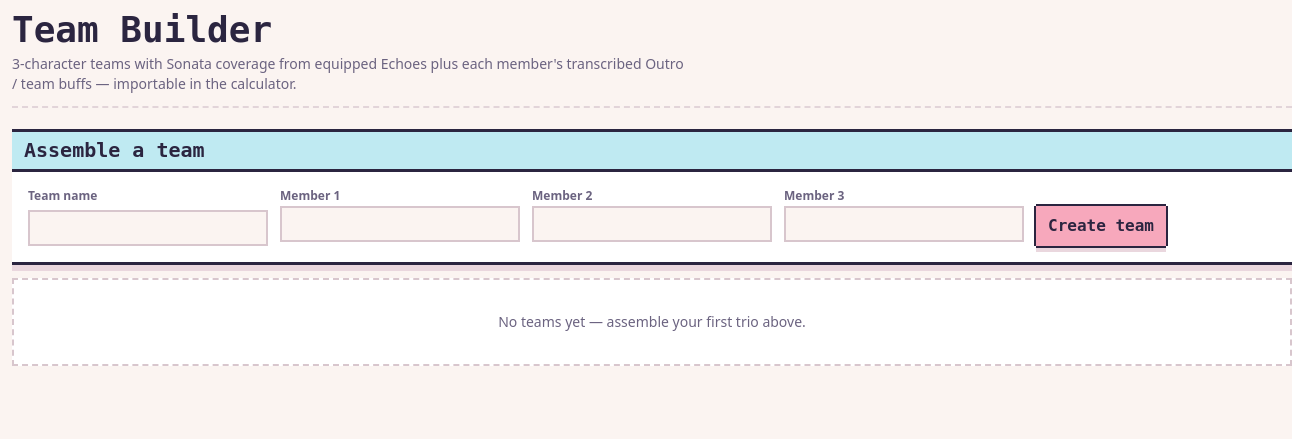
Test case: TeamsPage › rejects duplicate members without writing
In the field labelled "Team name": (148, 228) [28,210,268,246], type "Dup"
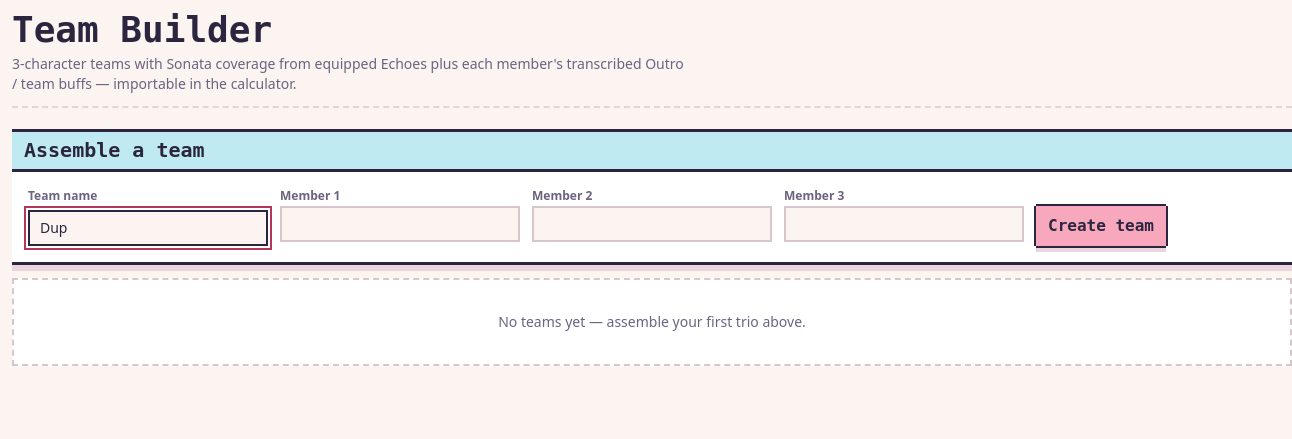
In the dropdown labelled "Member 1": (400, 224) [280,206,520,242], type "jiyan"
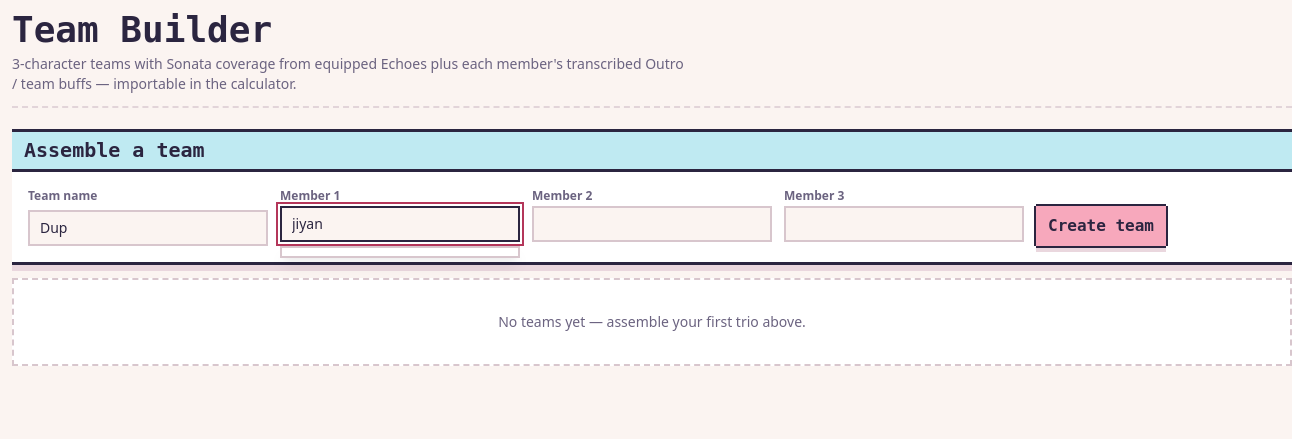
In the dropdown labelled "Member 2": (652, 224) [532,206,772,242], type "jiyan"
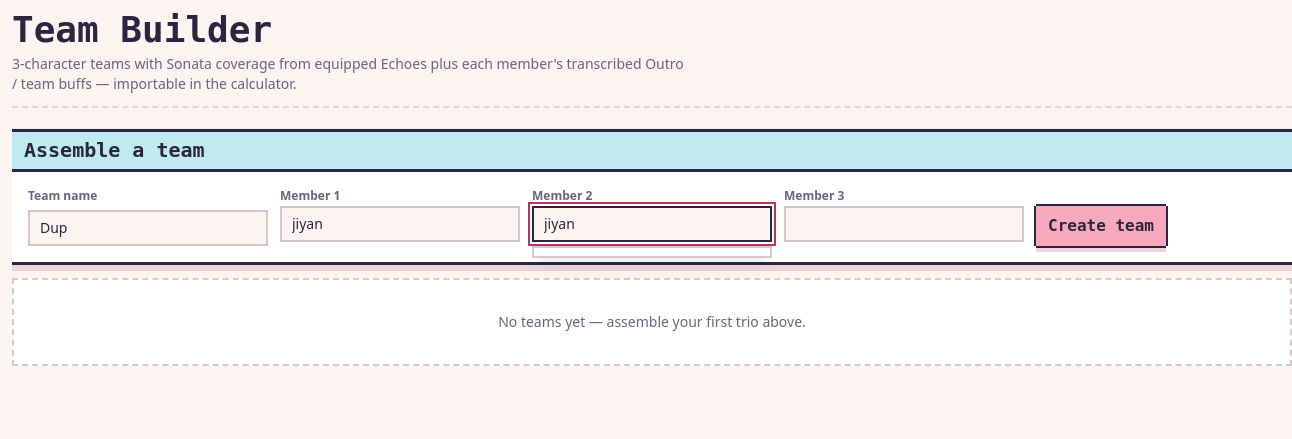
In the dropdown labelled "Member 3": (904, 224) [784,206,1024,242], type "verina"
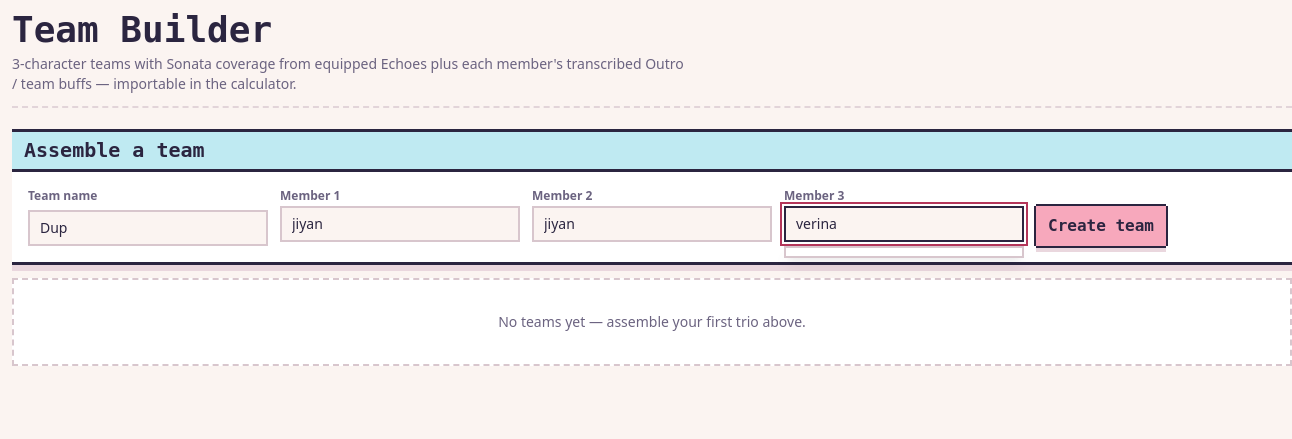
Click the button "Create team": (1101, 226) [1036,206,1166,246]
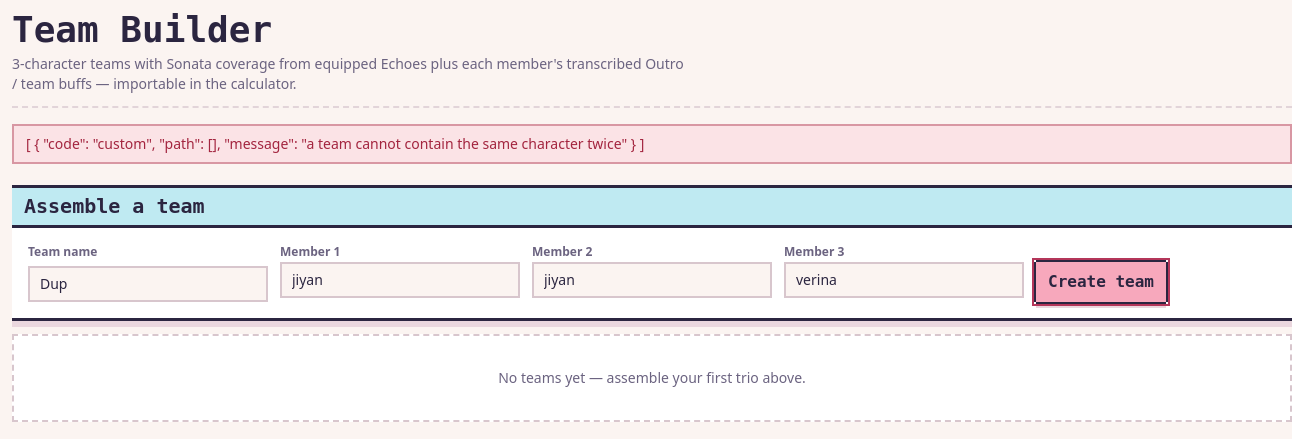
Now the message is shown, box [12,124,1291,164]
